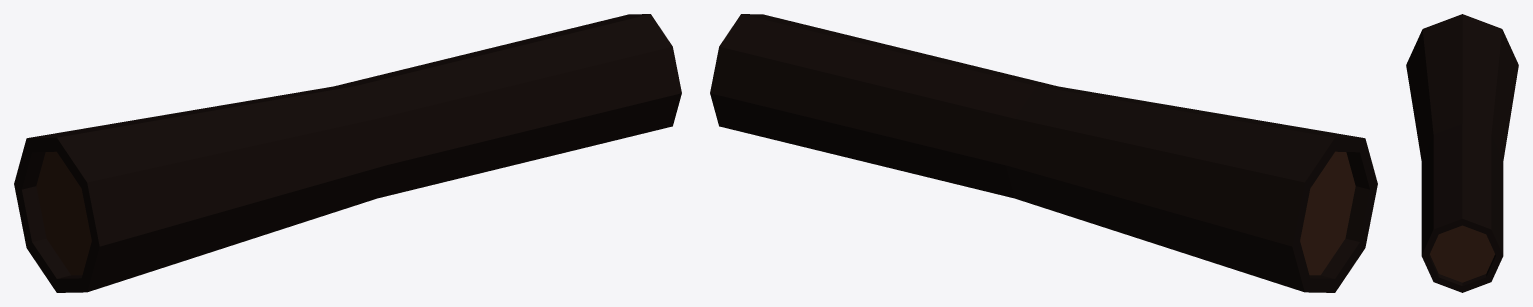
The model's file is trunk.obj.
3 views of the same model, side by side, from view 1: azimuth 30°, elevation 25°; view 2: azimuth 150°, elevation 25°; view 3: azimuth 270°, elevation 25° (orthographic). The views are drawn at different scales.
Visible parts, largest first — view 1: Cylinder_Cylinder.001; view 2: Cylinder_Cylinder.001; view 3: Cylinder_Cylinder.001.
Part boxes in pixels (left/top/right/bottom): Cylinder_Cylinder.001: left=14, top=14, right=681, bottom=292; Cylinder_Cylinder.001: left=710, top=14, right=1377, bottom=292; Cylinder_Cylinder.001: left=1406, top=14, right=1518, bottom=292.
Bounding box in the file's own units: 8.26 × 2.06 × 2.06.
